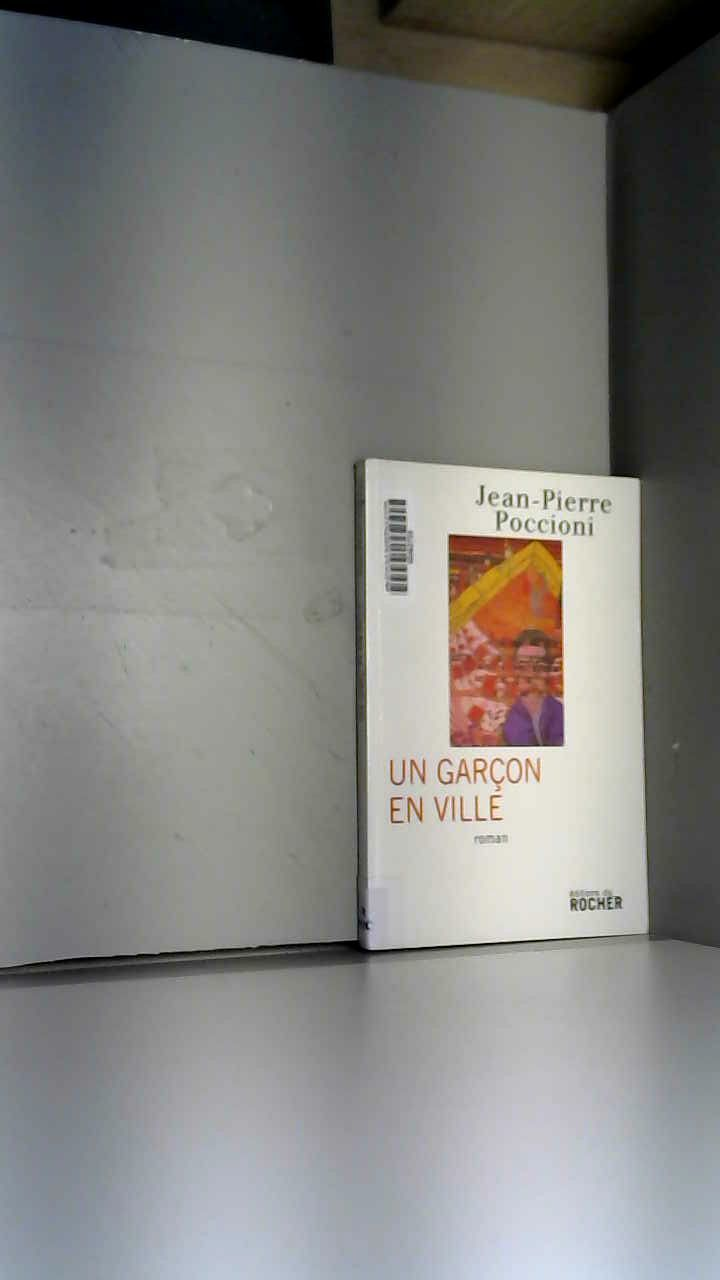book: (309, 410, 697, 995)
